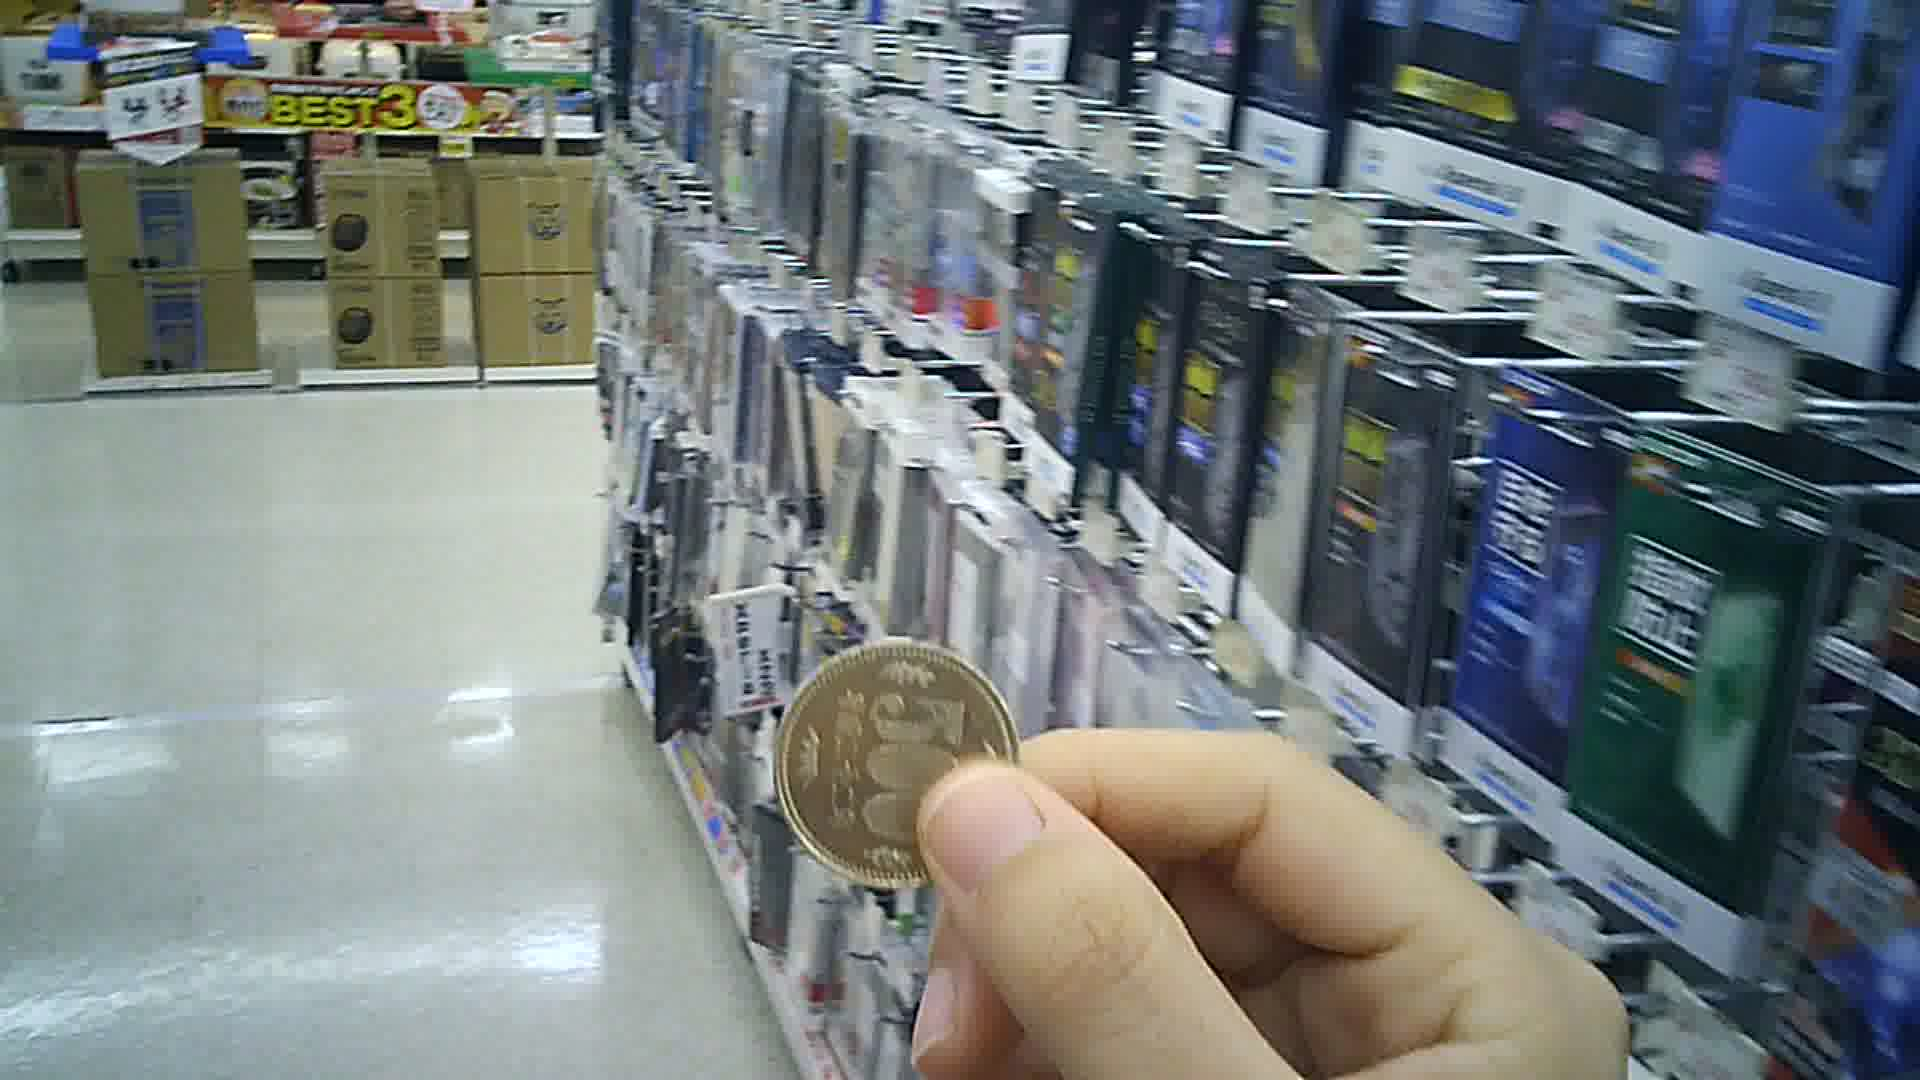500 Yen: (765, 637, 1034, 887)
